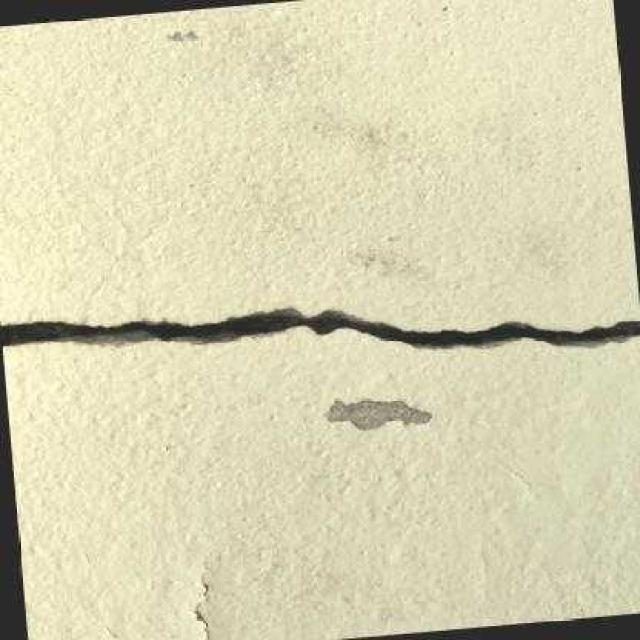D00: (0, 307, 640, 350)
